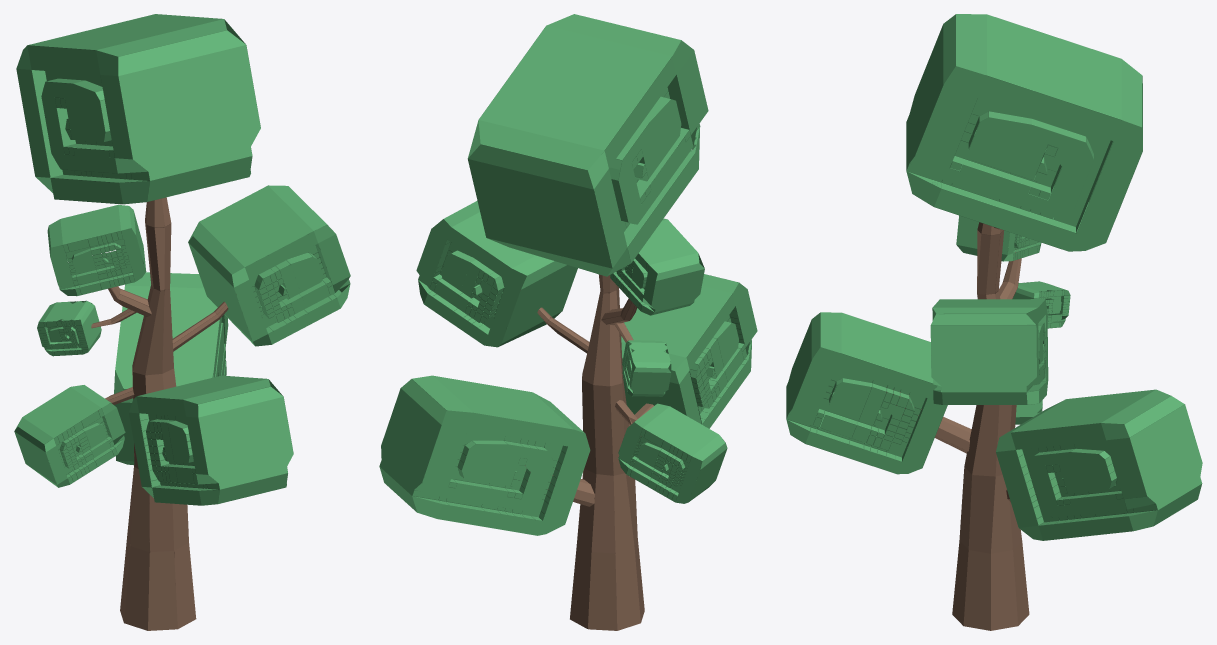
Rendered from TREE.obj.
The picture shows the model from 3 angles, left to right: view 1: azimuth 30°, elevation 25°; view 2: azimuth 150°, elevation 25°; view 3: azimuth 270°, elevation 25°; orthographic projection. The views are drawn at different scales.
Parts seen in each view (by area): view 1: cube; view 2: cube; view 3: cube.
Part boxes in pixels (x1,y1,x2,y2): cube: [14, 14, 350, 630]; cube: [379, 14, 757, 630]; cube: [786, 14, 1202, 630].
Bounding box in the file's own units: 4.29 × 8.18 × 5.39.
Materials: 1 (1 with a texture image).
